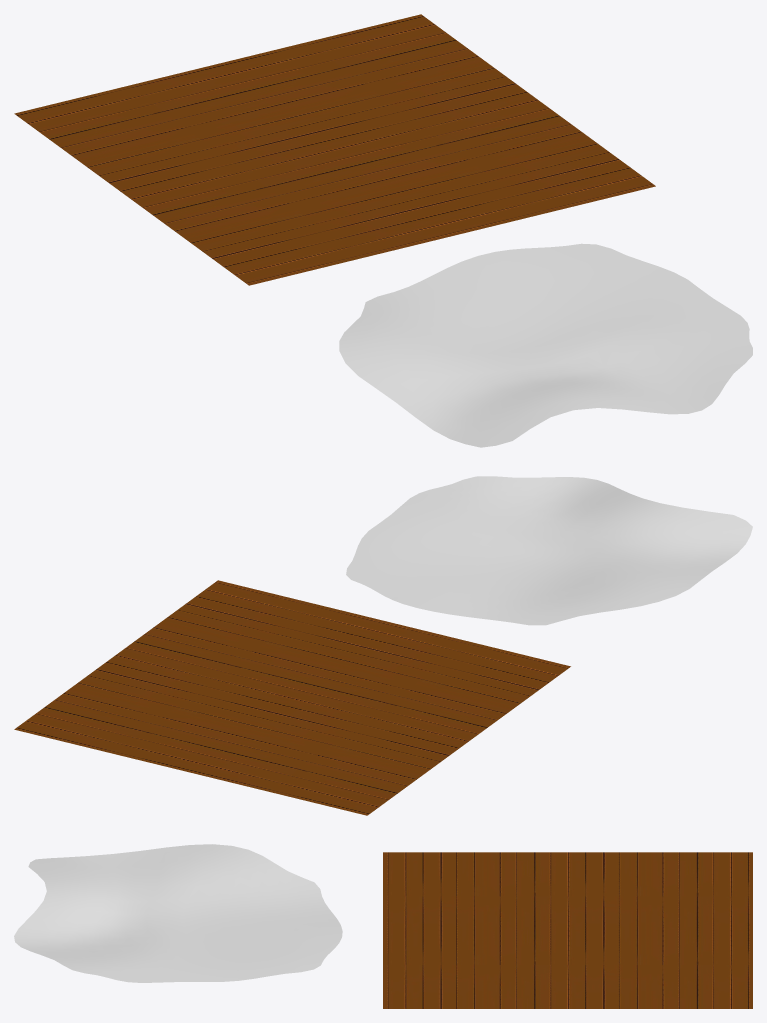
The model's file is carpet.fbx.
3 views of the same model, one above another, from view 1: azimuth 30°, elevation 25°; view 2: azimuth 150°, elevation 25°; view 3: azimuth 270°, elevation 25° (orthographic). The views are drawn at different scales.
Visible parts, largest first — view 1: Floor, Carpet; view 2: Floor, Carpet; view 3: Floor, Carpet.
Boxes of the visible parts, x1,y1,x2,y2 form: Floor: (14, 14, 655, 285); Carpet: (339, 243, 752, 447); Floor: (14, 580, 570, 815); Carpet: (346, 476, 752, 625); Floor: (383, 852, 752, 1008); Carpet: (14, 844, 342, 982).
Bounding box in the file's own units: 284 × 9.27 × 549.
